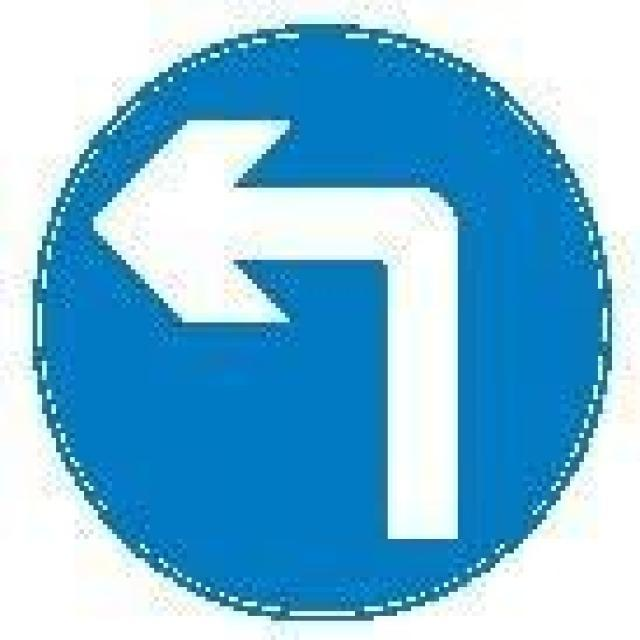compulsary turn left ahead: (30, 30, 610, 612)
